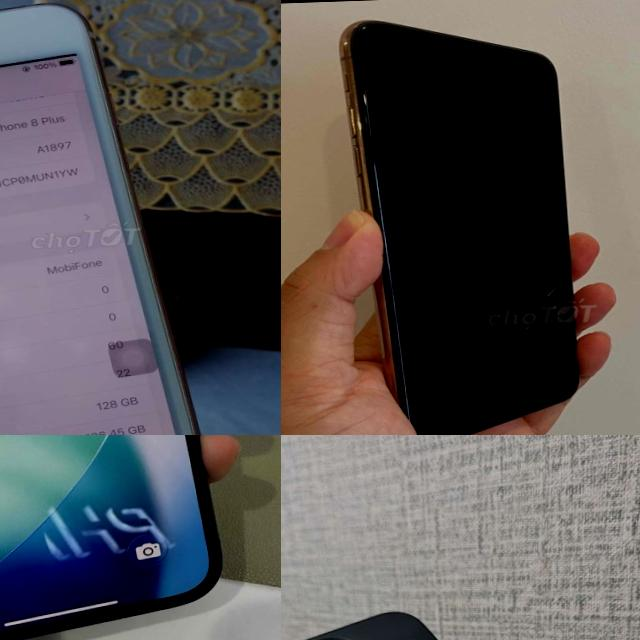gen_12_13: (0, 435, 226, 640)
gen_15: (281, 594, 640, 640)
gen_7_8: (0, 0, 224, 435)
gen_x_xs: (319, 5, 608, 435)
